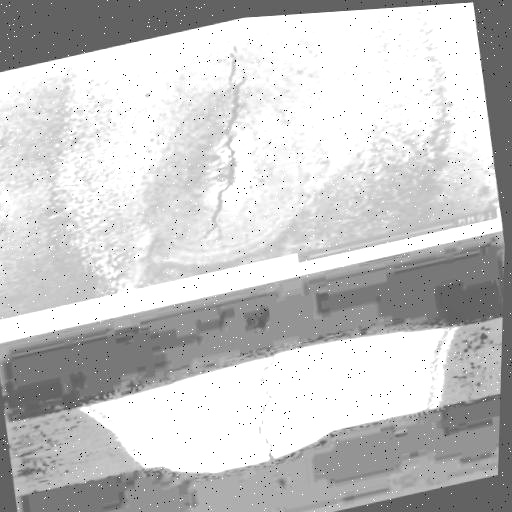crack: (154, 33, 280, 254), (235, 349, 295, 462)
